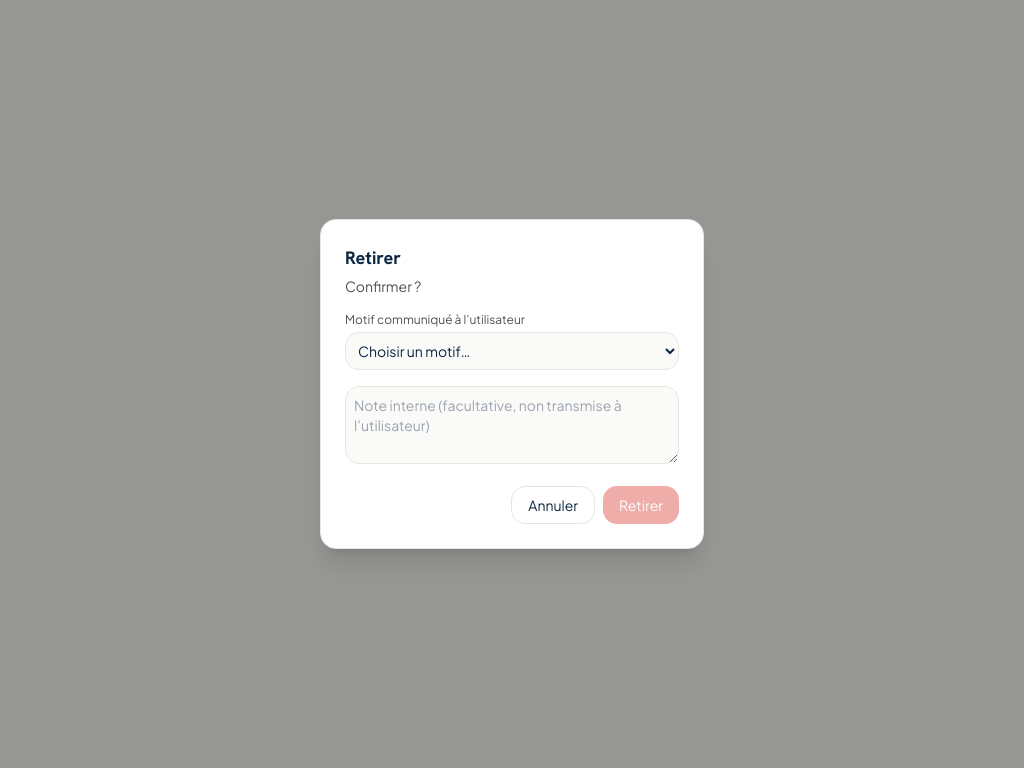
Test case: ConfirmActionDialog — catalogue de motifs › avec un catalogue, la confirmation reste bloquée tant qu’aucun motif n’est choisi
Check: the button with test id "confirm" is disabled, box [603,486,679,524]
Select "Annonce en double" in the dropdown with test id "reason-choice" at (512, 351), box [345,332,679,370]
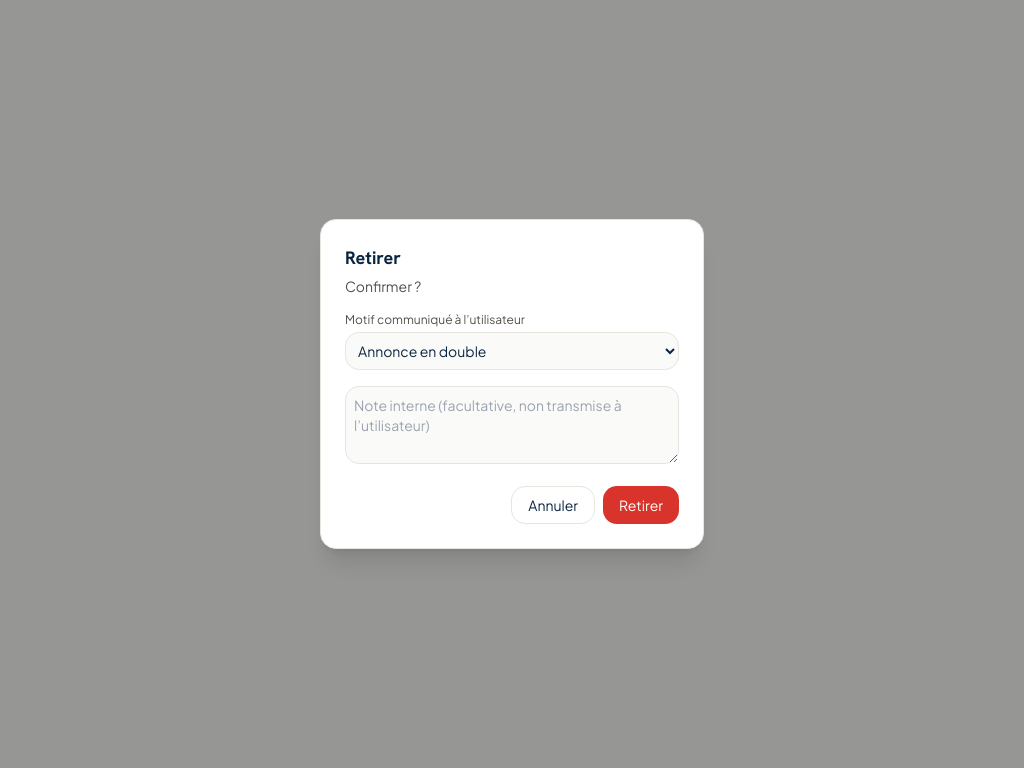
Check: the button with test id "confirm" is enabled, box [603,486,679,524]
